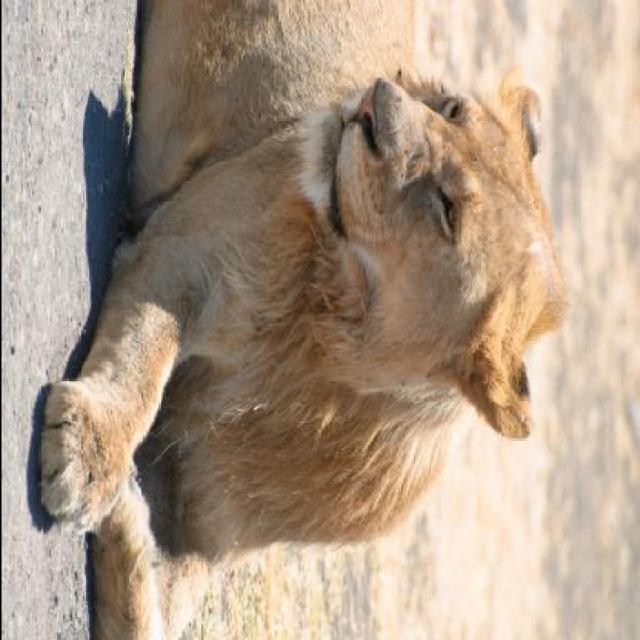Lion: (2, 12, 580, 638)
